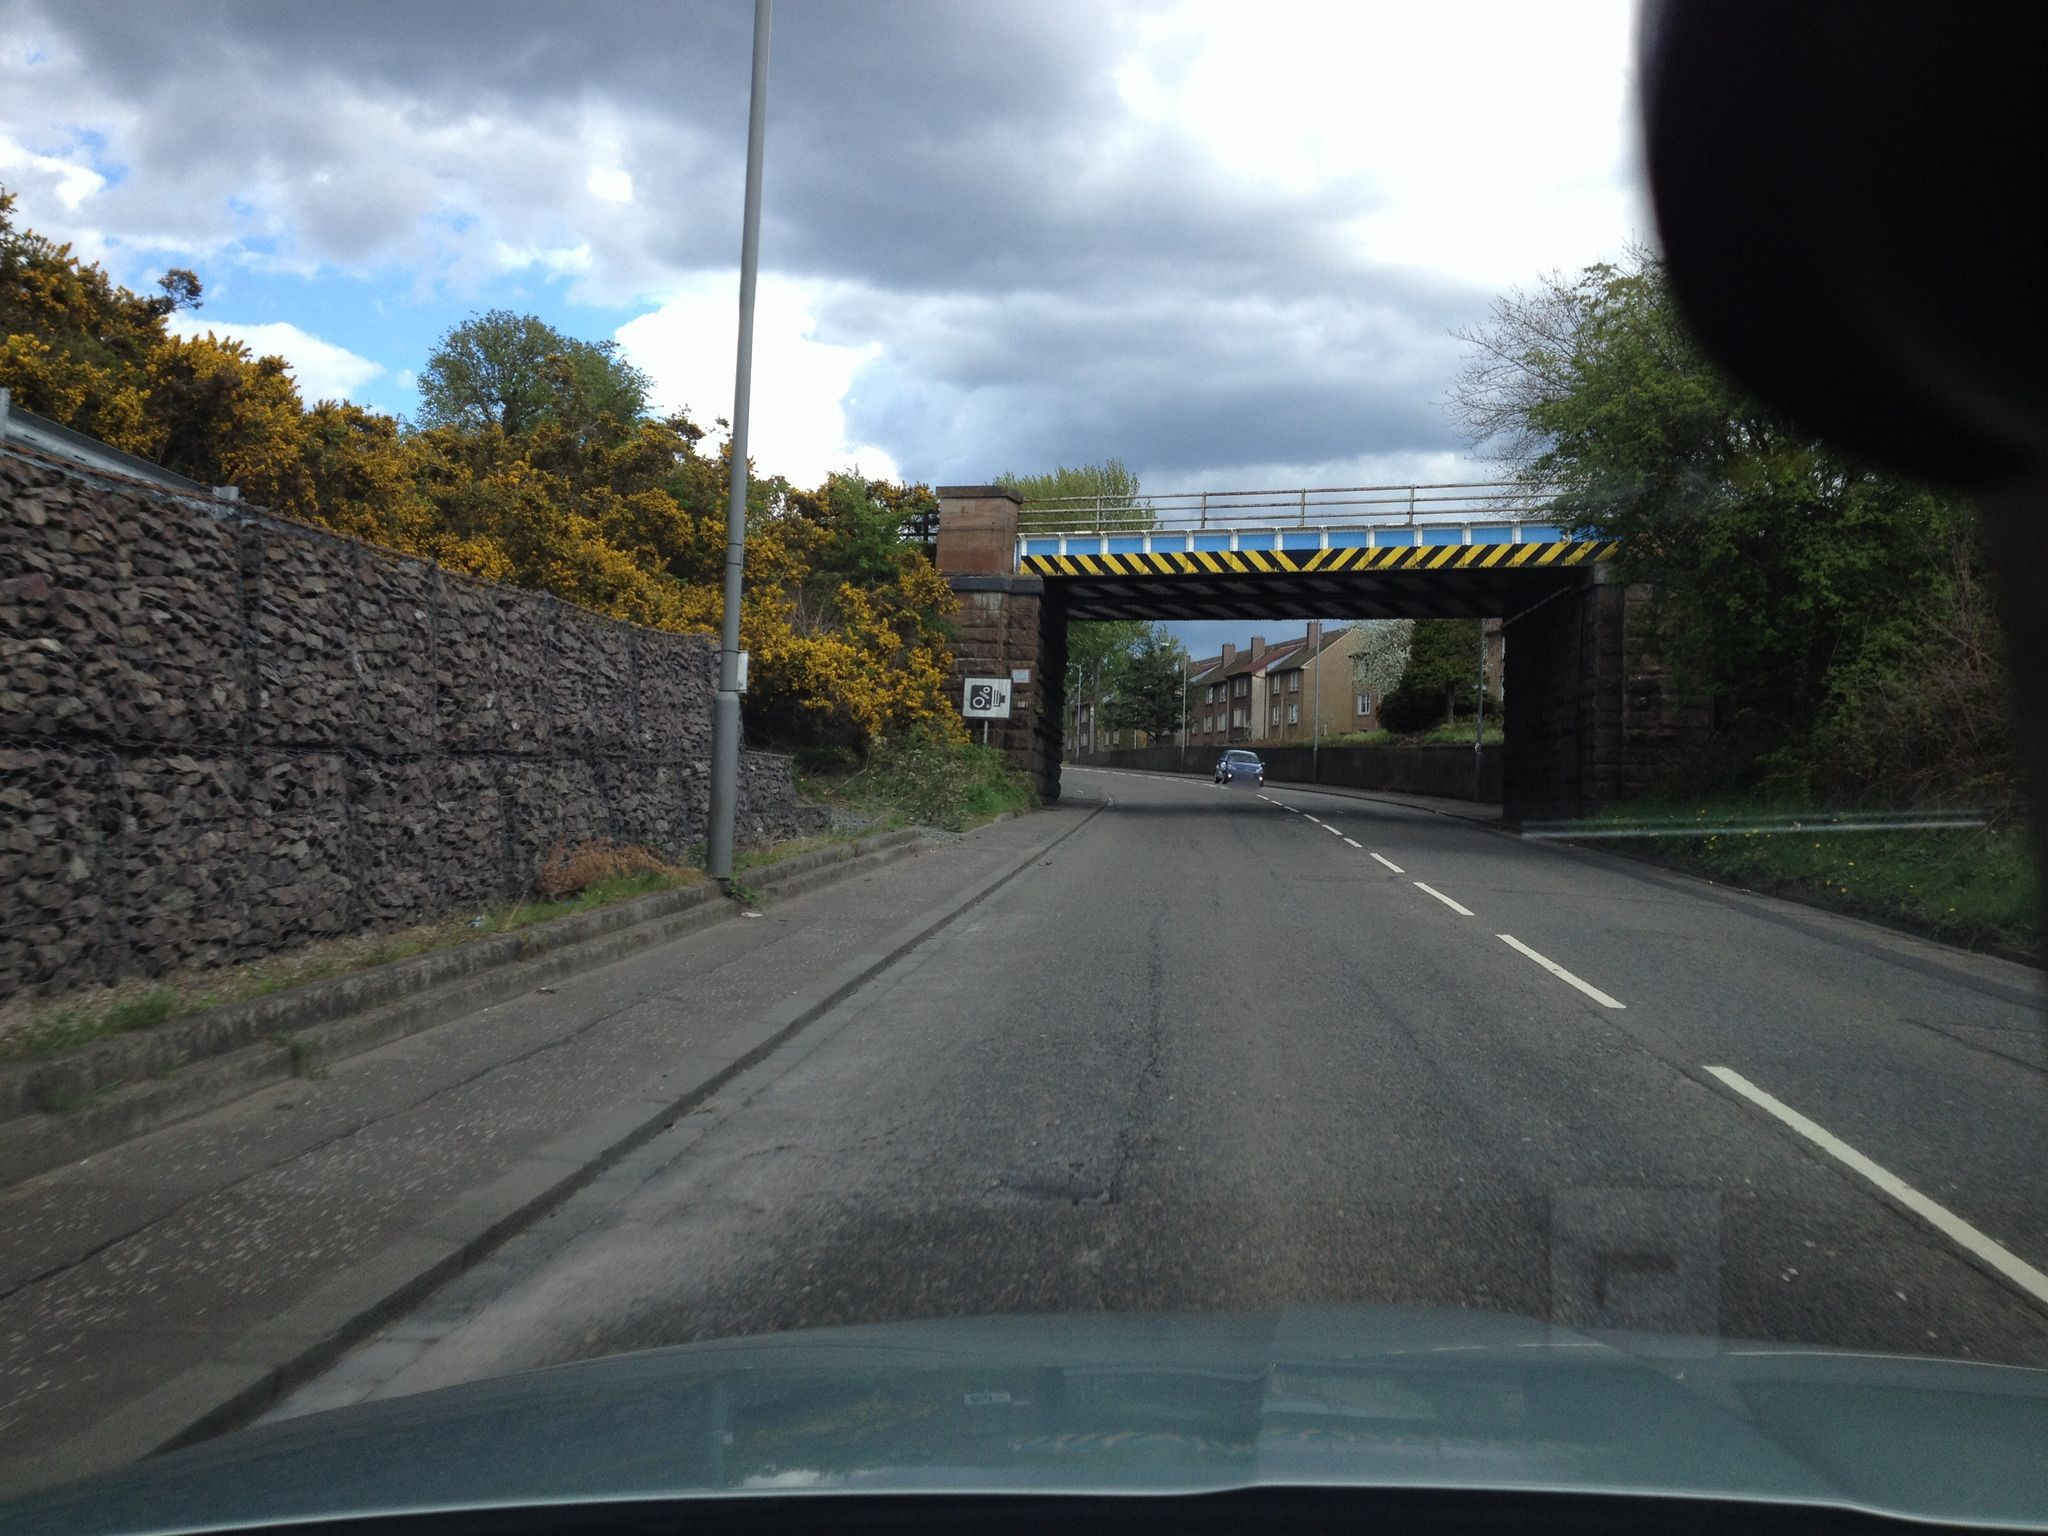car: (1213, 749, 1264, 786)
